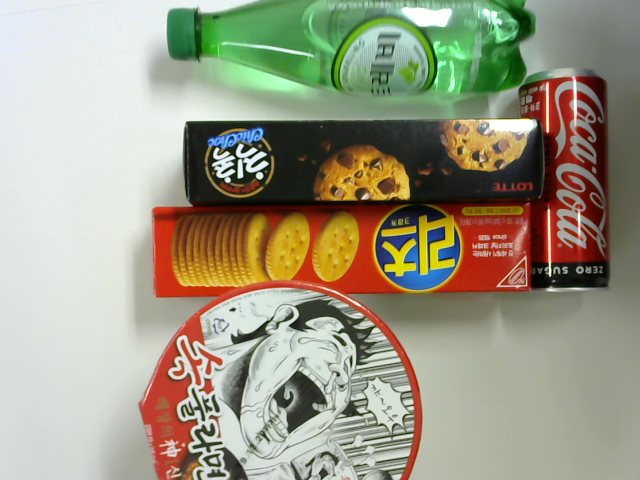Chicchok_Original_2400: (174, 110, 551, 206)
Coca_Cola_Zero_Can_250ml: (514, 65, 614, 304)
Hejangpul: (139, 275, 430, 480)
Ritz_Cracker: (142, 194, 543, 306)
Treviraim_500ml: (161, 1, 542, 98)
